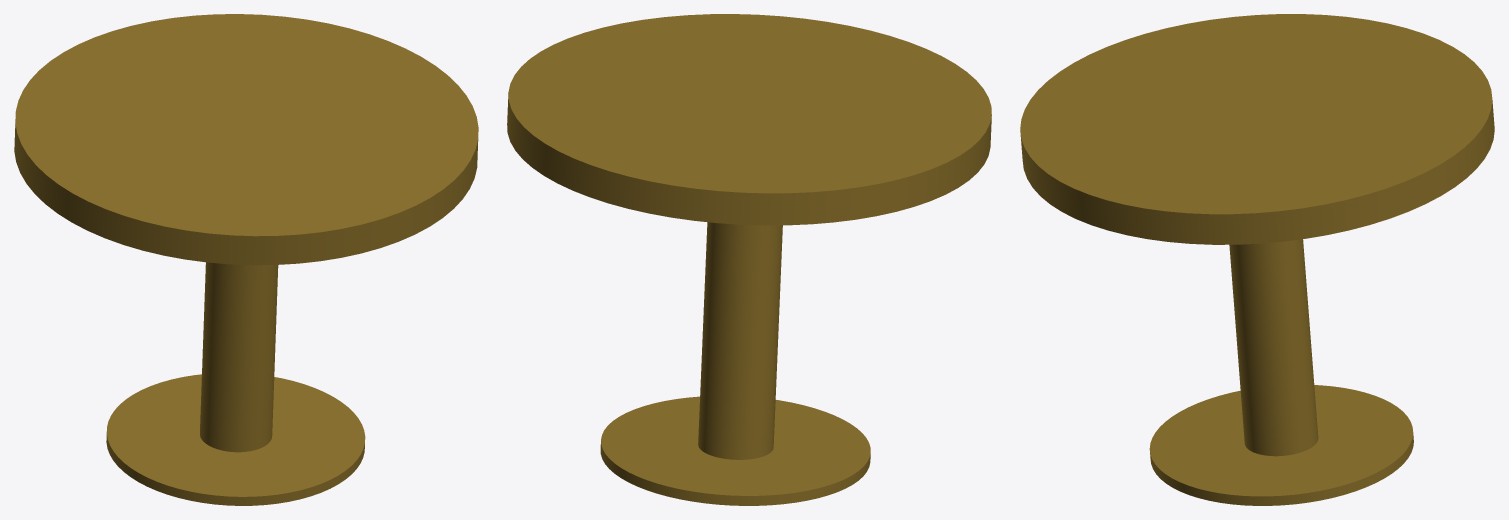
Rendered from round_table__49e5ede6a16d.glb.
3 renders of one model, left to right at view 1: azimuth 30°, elevation 25°; view 2: azimuth 150°, elevation 25°; view 3: azimuth 270°, elevation 25°, orthographic. The views are drawn at different scales.
Parts seen in each view (by area): view 1: top, foot, stem; view 2: top, foot, stem; view 3: top, foot, stem.
Boxes of the visible parts, bbox=[...] form: top: bbox=[14, 14, 478, 265]; foot: bbox=[106, 374, 365, 505]; stem: bbox=[200, 262, 278, 452]; top: bbox=[507, 14, 991, 225]; foot: bbox=[600, 396, 870, 505]; stem: bbox=[698, 222, 782, 459]; top: bbox=[1020, 14, 1494, 244]; foot: bbox=[1149, 385, 1413, 505]; stem: bbox=[1229, 239, 1318, 456].
Bounding box in the file's own units: 0.4481 × 0.3746 × 0.4491.
